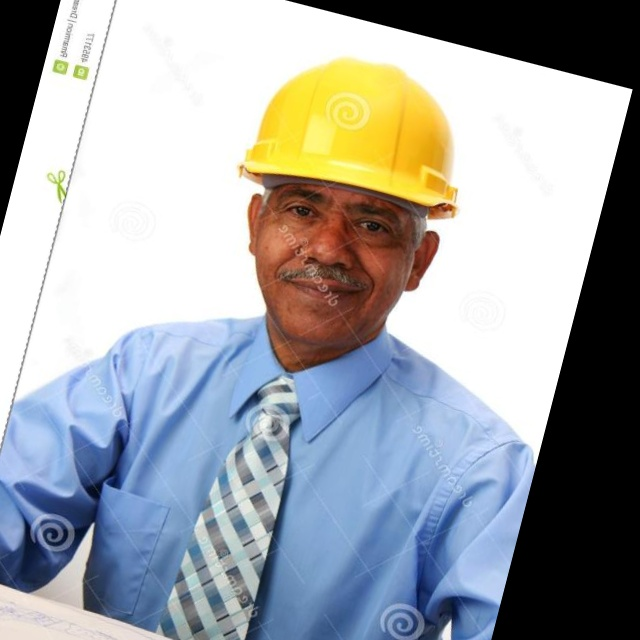Con_Casco: (204, 39, 477, 365)
Sin_Chaleco: (60, 282, 539, 640)
